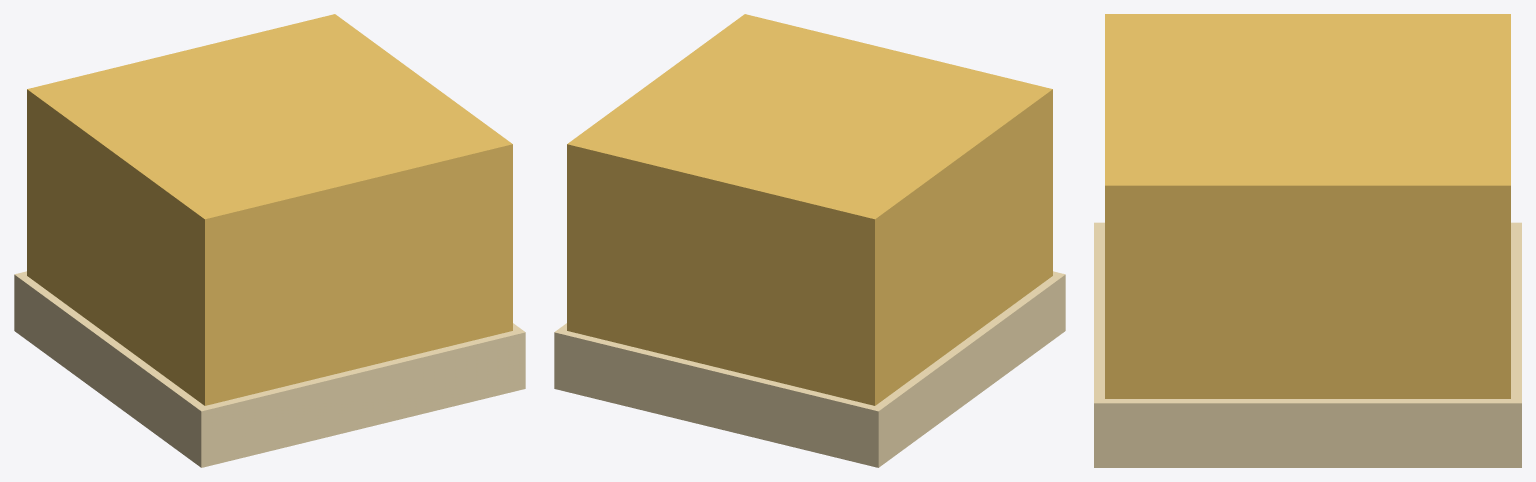
Rendered from leao_manga_inf.glb.
3 renders of one model, left to right at view 1: azimuth 30°, elevation 25°; view 2: azimuth 150°, elevation 25°; view 3: azimuth 270°, elevation 25°, orthographic. The views are drawn at different scales.
Parts seen in each view (by area): view 1: leao_manga_inf; view 2: leao_manga_inf; view 3: leao_manga_inf.
Part boxes in pixels (x1,y1,x2,y2): leao_manga_inf: (14, 14, 525, 467); leao_manga_inf: (554, 14, 1065, 467); leao_manga_inf: (1094, 14, 1521, 467).
Bounding box in the file's own units: 0.3 × 0.215 × 0.3.
